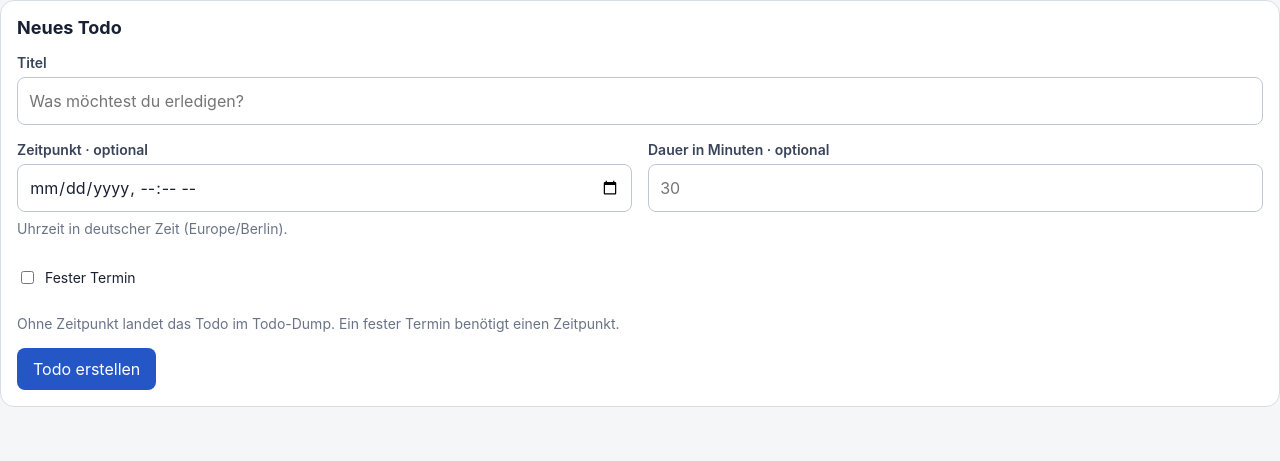
it: CreateTodoForm › rejects invalid duration 0
Type "Sport" into the field named "title".
click(640, 101); type("Sport")  # box [17,77,1263,125]
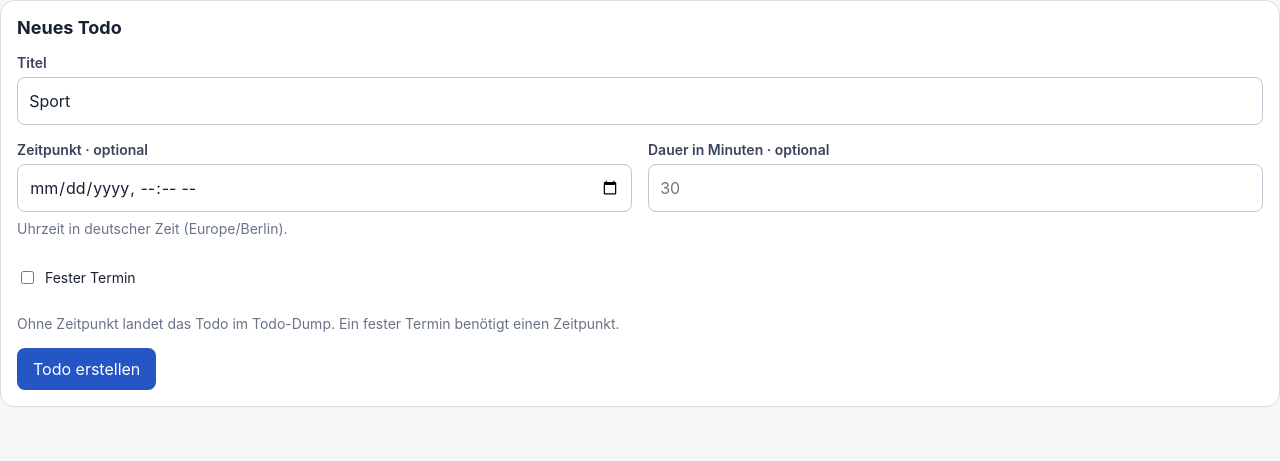
Type "0" into the number field named "duration".
click(956, 188); type("0")  # box [648,164,1263,212]
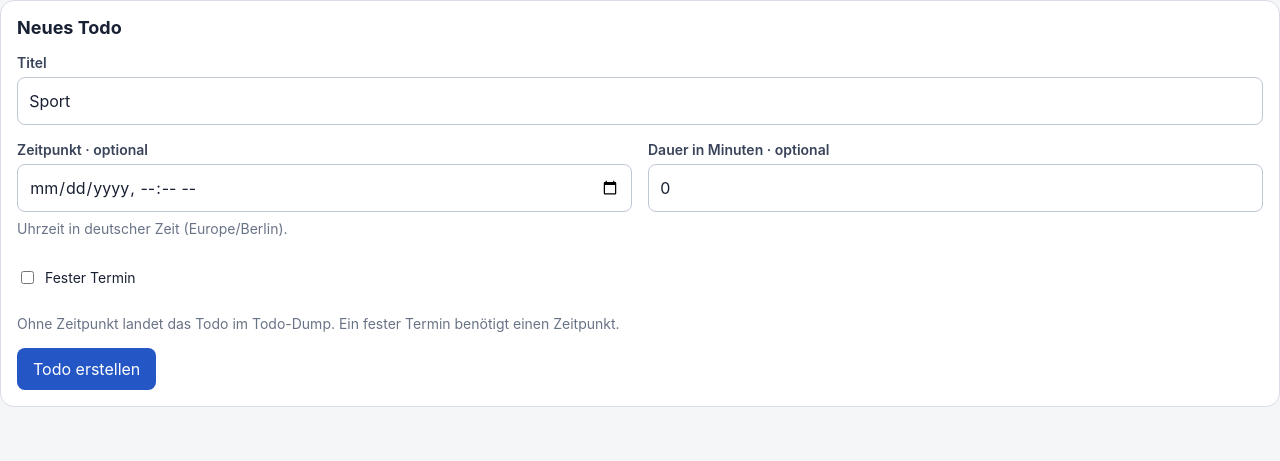
Submit the form
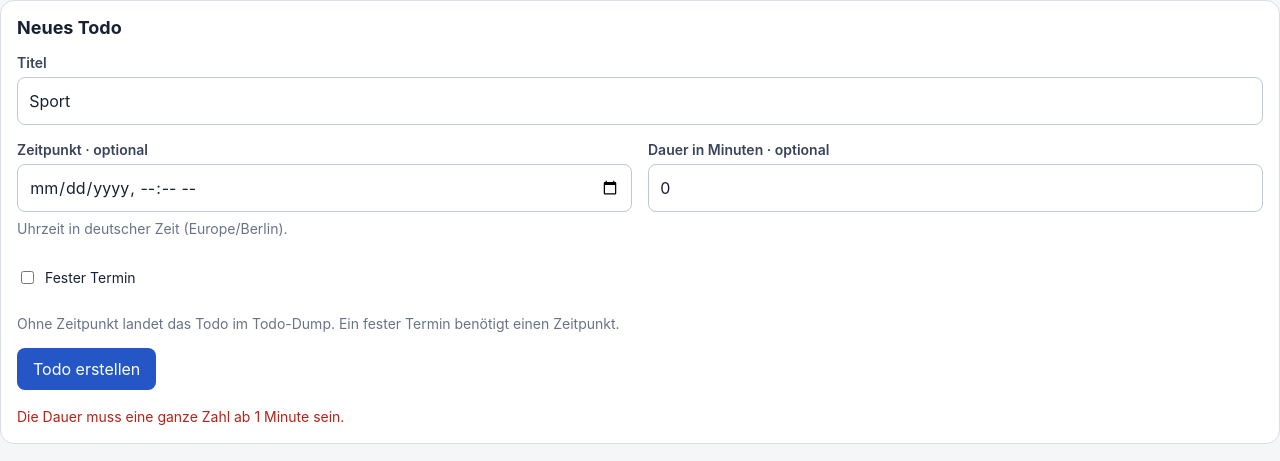
Result: the message "Die Dauer muss eine ganze Zahl ab 1 Minute sein." is shown at [17,408,344,425]
